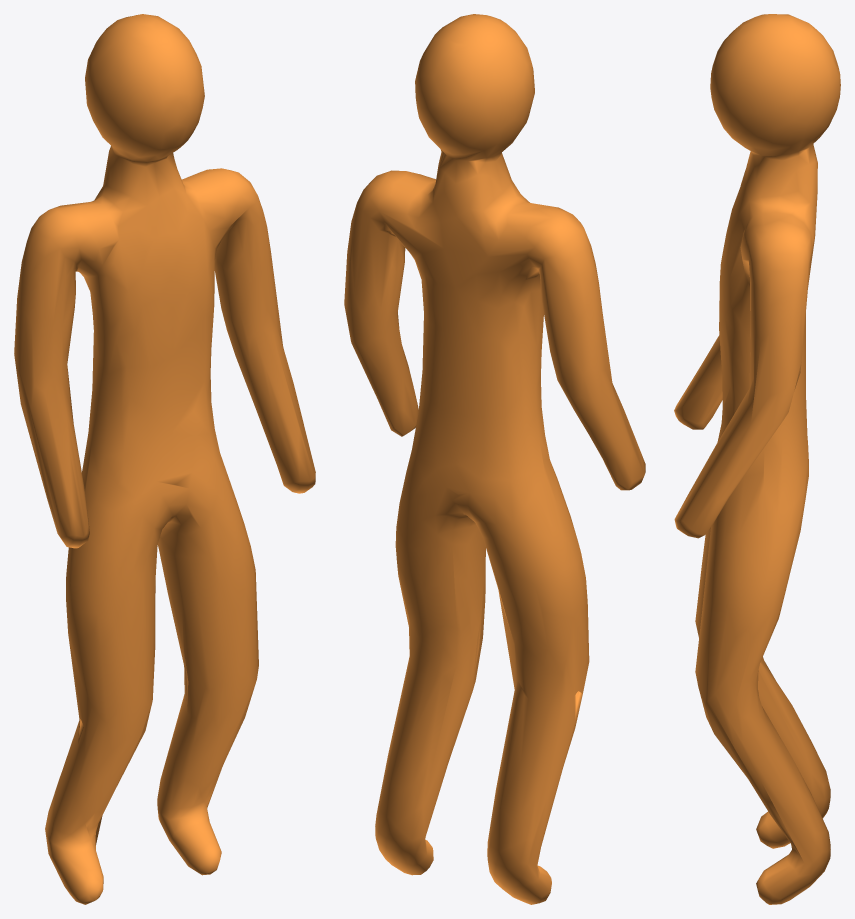
Rendered from person-a.glb.
3 renders of one model, left to right at view 1: azimuth 30°, elevation 25°; view 2: azimuth 150°, elevation 25°; view 3: azimuth 270°, elevation 25°, orthographic.
Visible parts, largest first — view 1: person-a; view 2: person-a; view 3: person-a.
Part boxes in pixels (x1,y1,x2,y2): person-a: (14,14,315,904); person-a: (344,14,645,904); person-a: (674,14,840,904).
Bounding box in the file's own units: 0.4771 × 1.55 × 0.2732.
